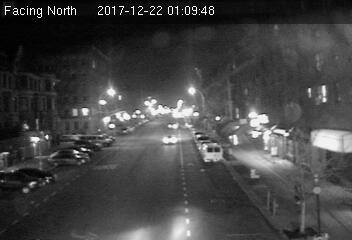car: (161, 134, 180, 146)
truck: (200, 141, 222, 164)
